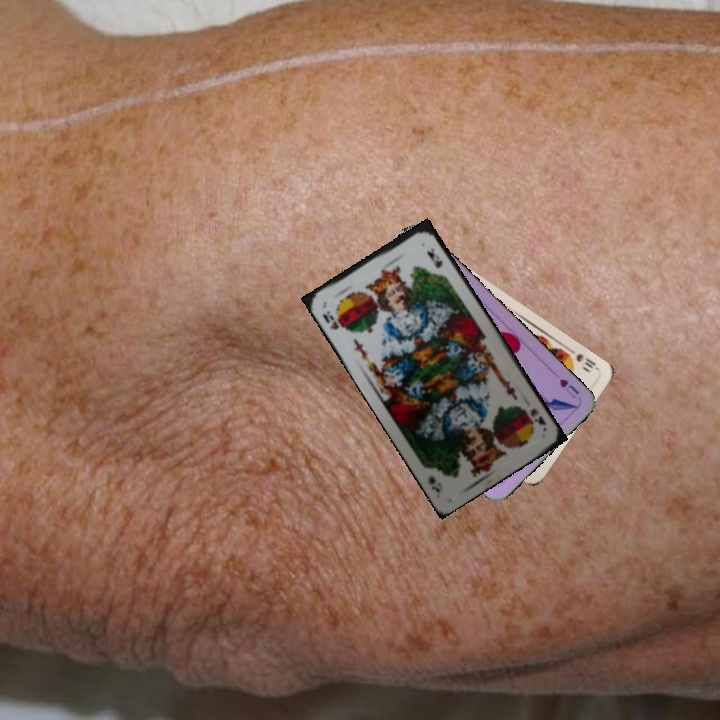HU: (555, 374, 581, 401)
S10: (562, 344, 601, 372)
SK: (318, 306, 350, 335), (519, 404, 549, 428)
